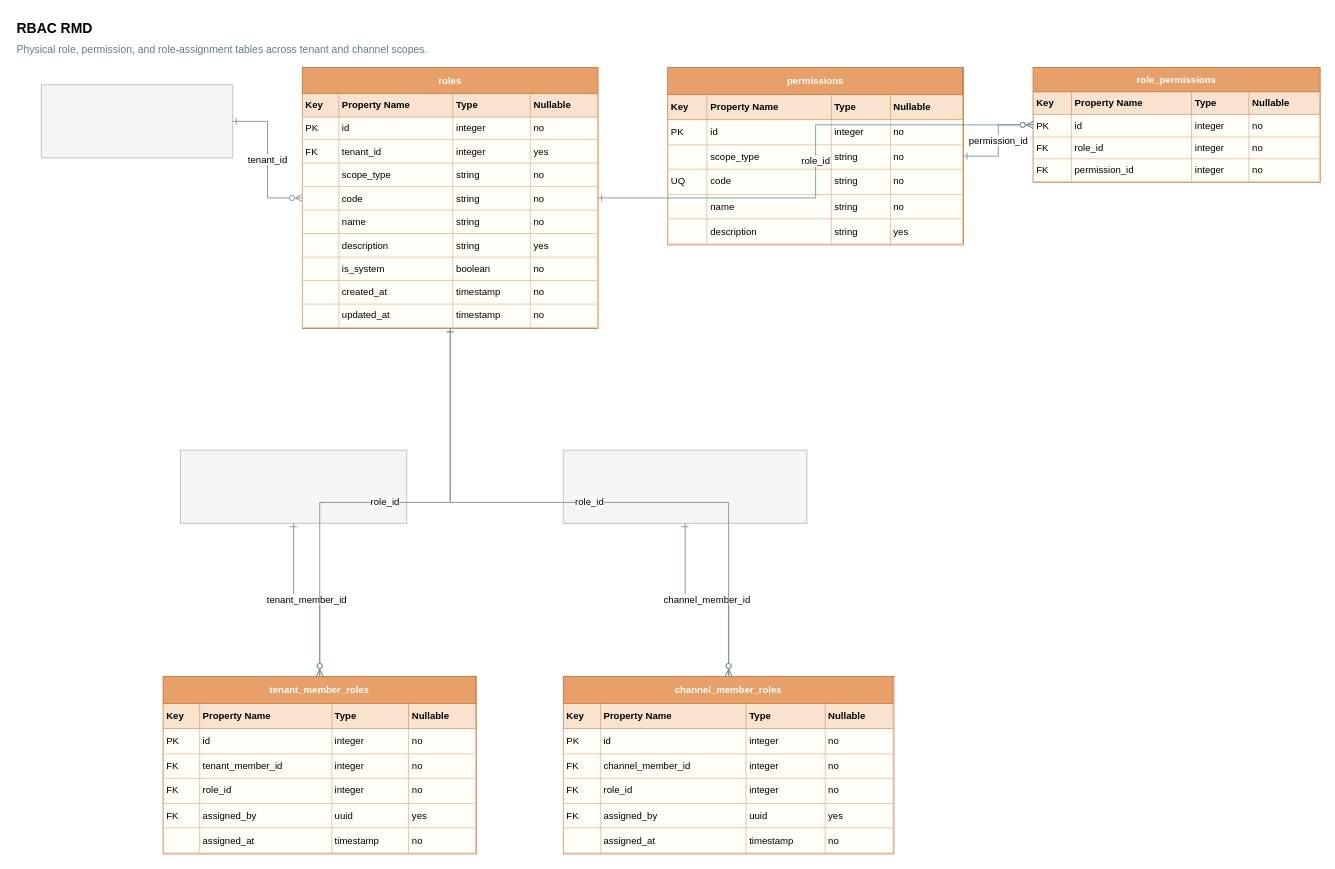
Image size: 1335x869. Some labels were removed from this diagram. Here are the shapes that lost their labels. From the top down, the centre of each, then its label:
At [136,121]: "tenants Key Property Name Type Nullable PK id integer no".
At [293,486]: "tenant_members Key Property Name Type Nullable PK id integer no".
At [684,486]: "channel_members Key Property Name Type Nullable PK id integer no".
